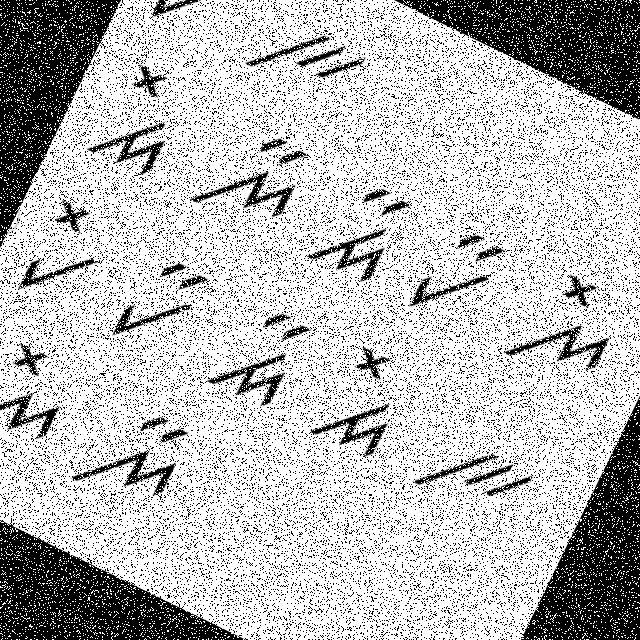dan: (290, 153, 420, 294), (196, 288, 317, 421)
do: (74, 48, 201, 193), (308, 334, 424, 470)
nan: (60, 384, 204, 528), (187, 110, 320, 247)
no: (493, 254, 639, 409), (0, 322, 86, 468)
pan: (99, 238, 219, 372), (396, 213, 513, 338)
po: (0, 184, 124, 322), (137, 0, 257, 50)
